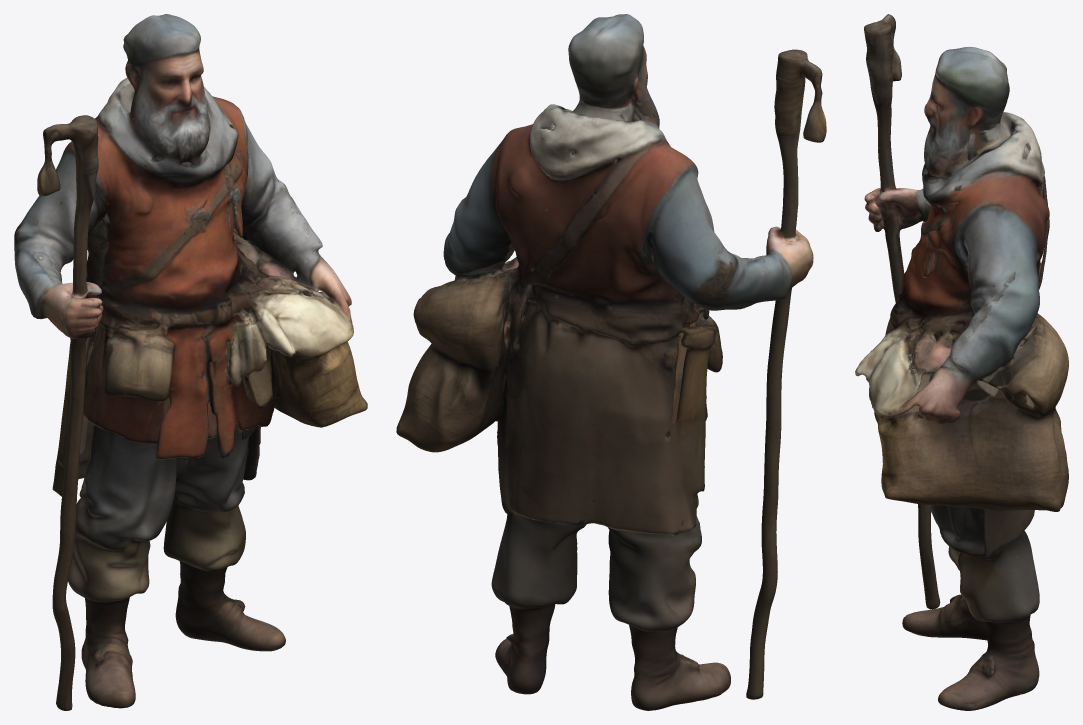
Rendered from k14_gezgin_tuccar.glb.
3 renders of one model, left to right at view 1: azimuth 30°, elevation 25°; view 2: azimuth 150°, elevation 25°; view 3: azimuth 270°, elevation 25°, orthographic. The views are drawn at different scales.
Bounding box in the file's own units: 1.07 × 1.99 × 0.6308.
Materials: 1 (1 with a texture image).
